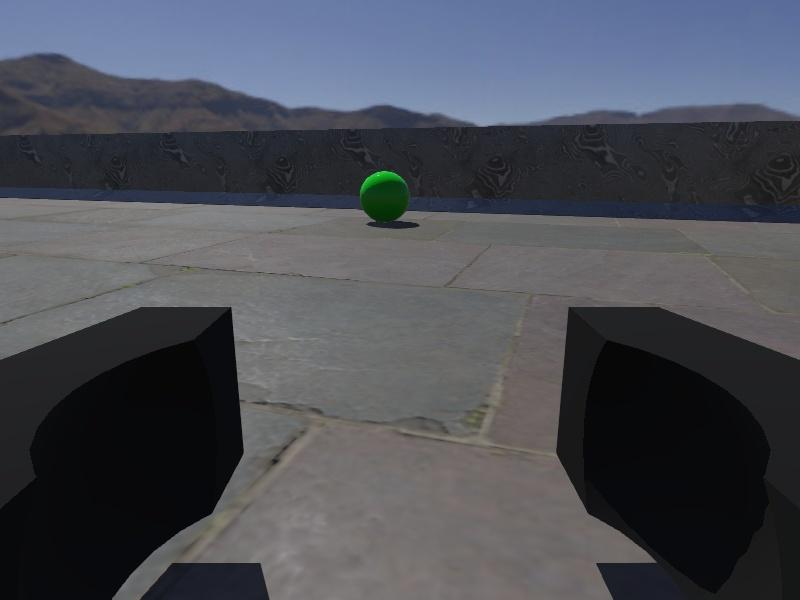green ball: (358, 170, 412, 224)
